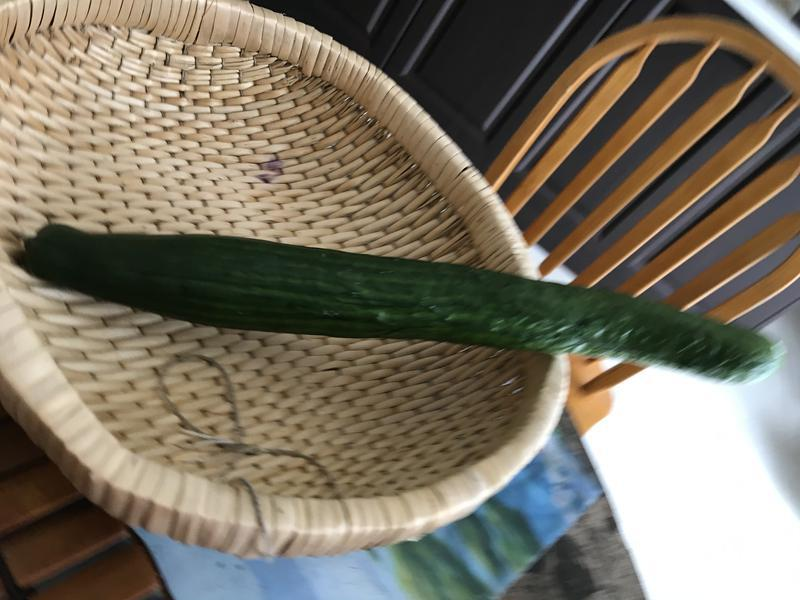cucumber: (13, 209, 791, 395)
